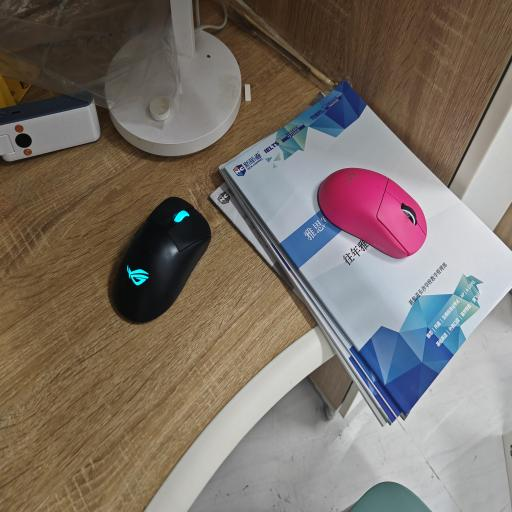mouse: (113, 197, 211, 322), (318, 168, 427, 258)
